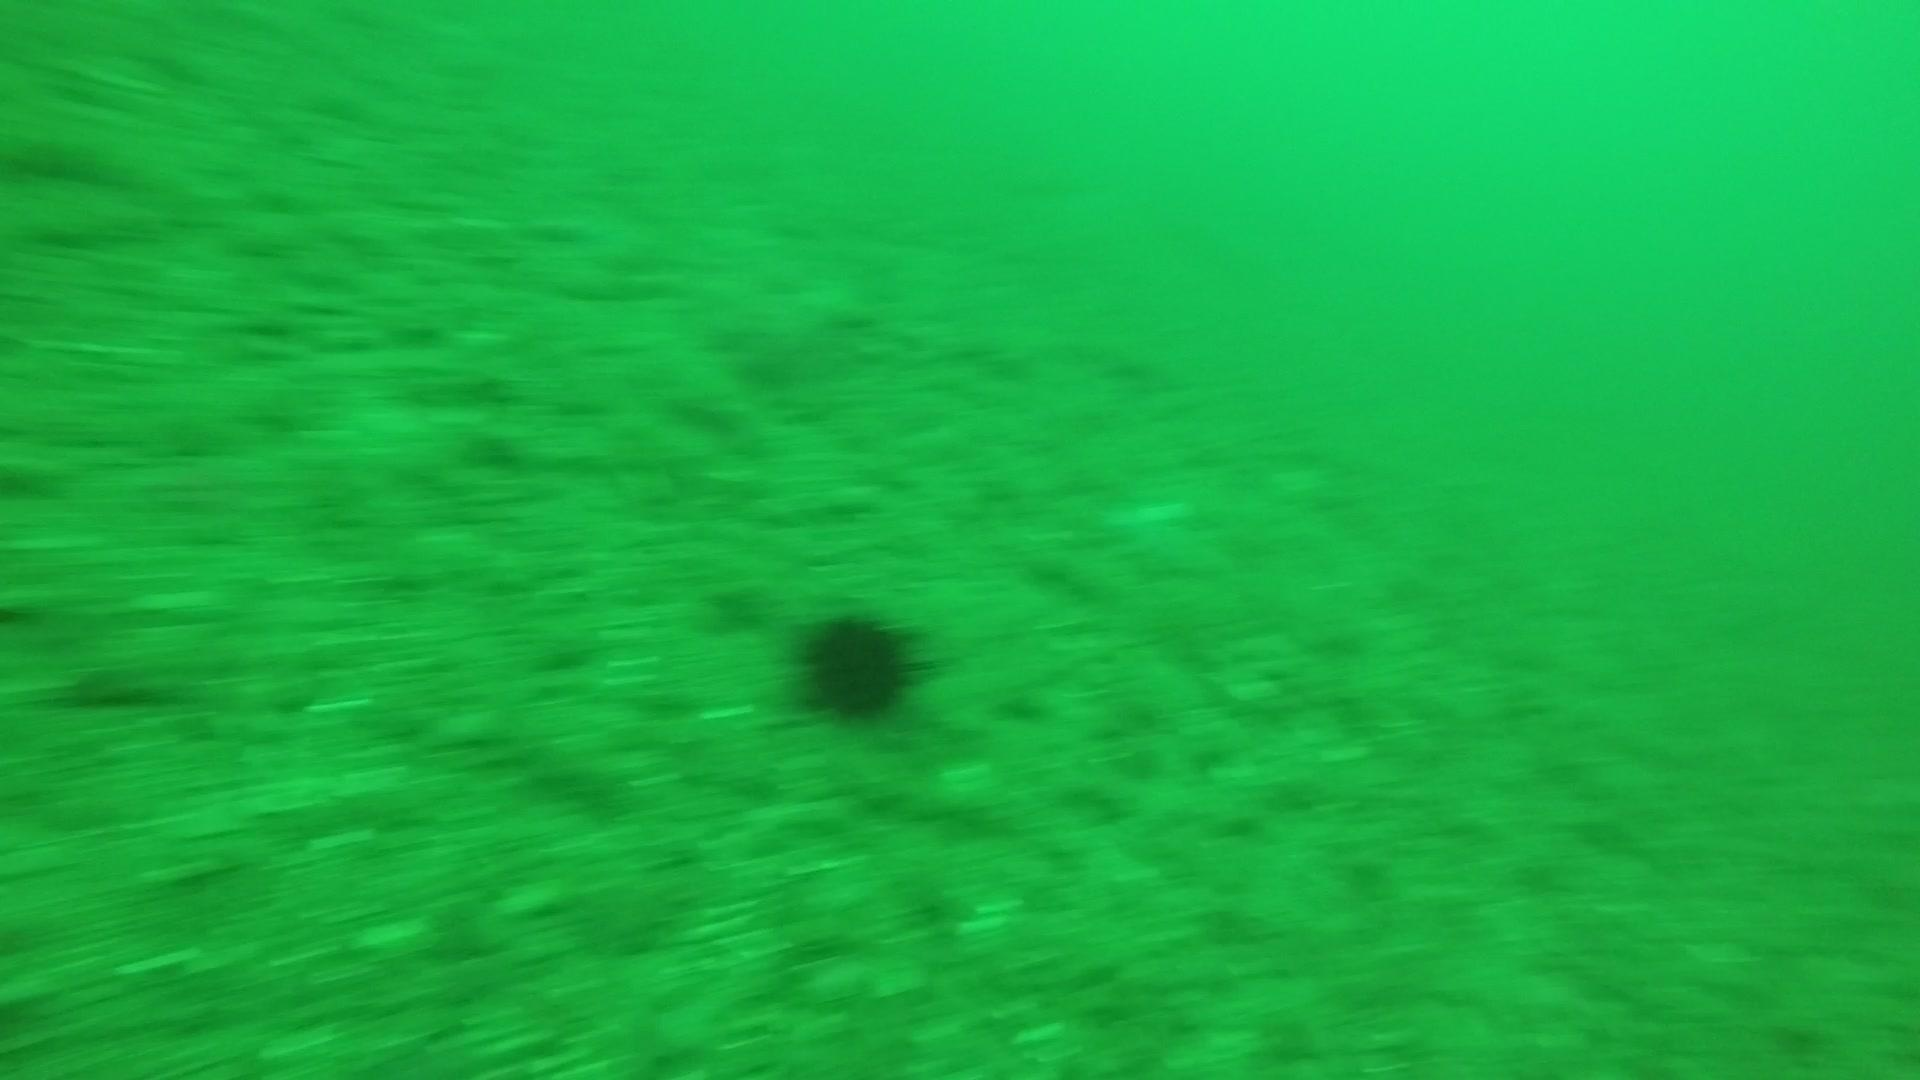echinus: (789, 603, 928, 729)
